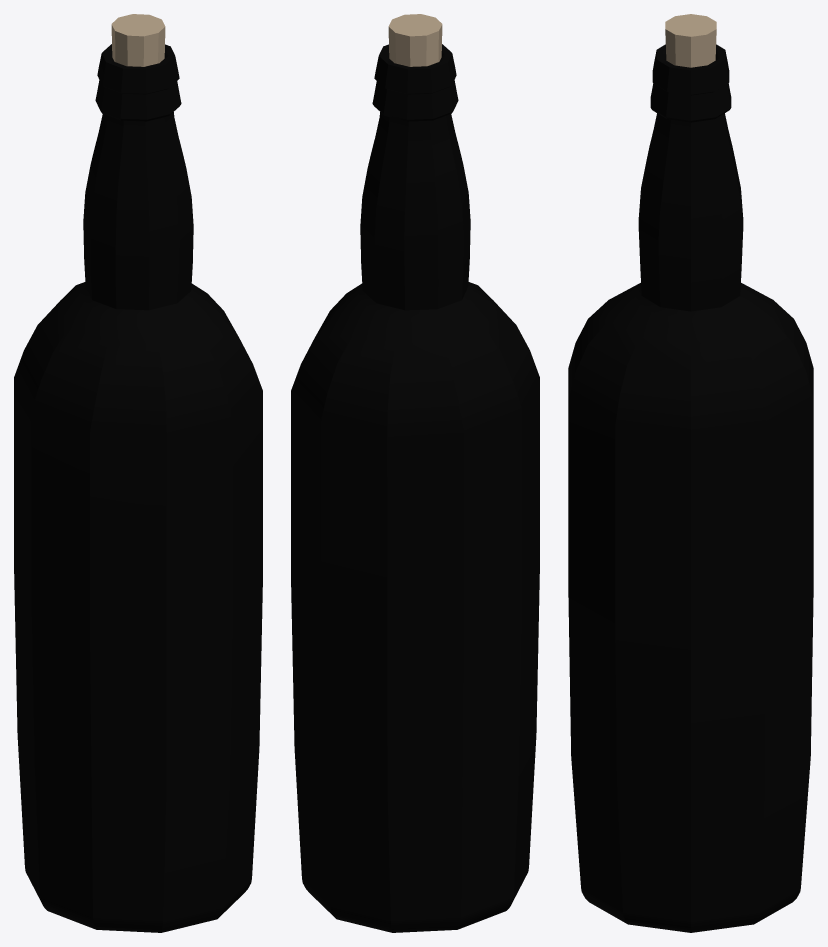
File: Bottle.fbx
3 views of the same model, side by side, from view 1: azimuth 30°, elevation 25°; view 2: azimuth 150°, elevation 25°; view 3: azimuth 270°, elevation 25° (orthographic).
Visible parts, largest first — view 1: pCylinder5; view 2: pCylinder5; view 3: pCylinder5.
Part boxes in pixels (x1,y1,x2,y2): pCylinder5: (14,14,262,932); pCylinder5: (291,14,539,932); pCylinder5: (568,14,813,932).
Bounding box in the file's own units: 2.3 × 8.88 × 2.28.
